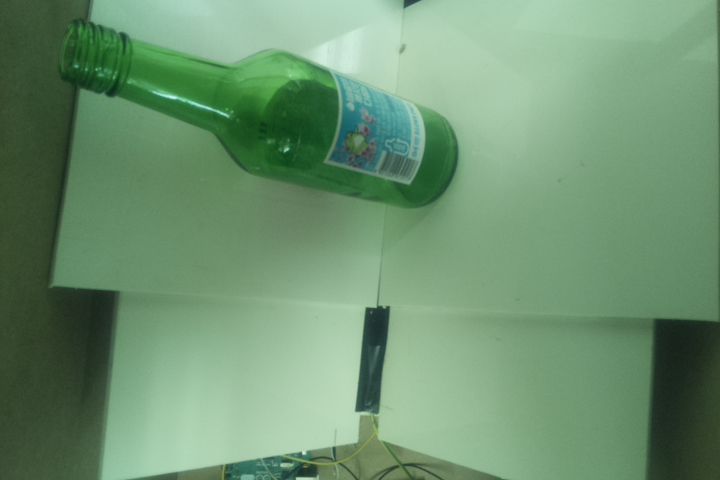soju: (59, 15, 461, 210)
